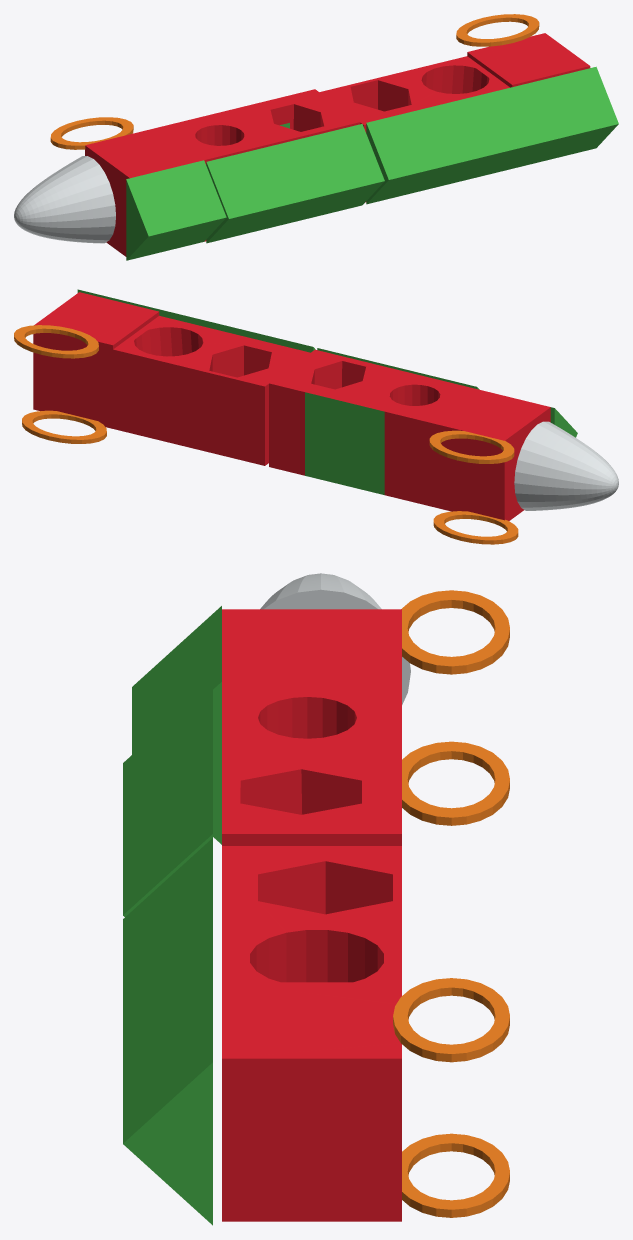
Rendered from tinker.obj.
3 views of the same model, one above another, from view 1: azimuth 30°, elevation 25°; view 2: azimuth 150°, elevation 25°; view 3: azimuth 270°, elevation 25° (orthographic). The views are drawn at different scales.
Parts seen in each view (by area): view 1: group_0_4634441, group_0_15277357, group_0_14541540, group_0_16089887; view 2: group_0_15277357, group_0_4634441, group_0_14541540, group_0_16089887; view 3: group_0_15277357, group_0_4634441, group_0_16089887, group_0_14541540.
Part boxes in pixels (x1=…): group_0_4634441: x1=126, y1=66, x2=618, y2=260; group_0_15277357: x1=85, y1=33, x2=590, y2=256; group_0_14541540: x1=14, y1=156, x2=115, y2=243; group_0_16089887: x1=50, y1=14, x2=539, y2=149; group_0_15277357: x1=33, y1=292, x2=550, y2=520; group_0_4634441: x1=77, y1=289, x2=577, y2=494; group_0_14541540: x1=514, y1=421, x2=618, y2=510; group_0_16089887: x1=14, y1=325, x2=518, y2=544; group_0_15277357: x1=222, y1=609, x2=401, y2=1221; group_0_4634441: x1=123, y1=606, x2=221, y2=1225; group_0_16089887: x1=393, y1=590, x2=509, y2=1217; group_0_14541540: x1=260, y1=573, x2=410, y2=704.
Size of the model in its own units: 142 by 21 by 43.
